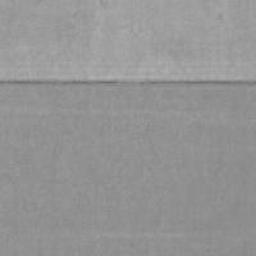Welding line: (0, 77, 256, 87)
